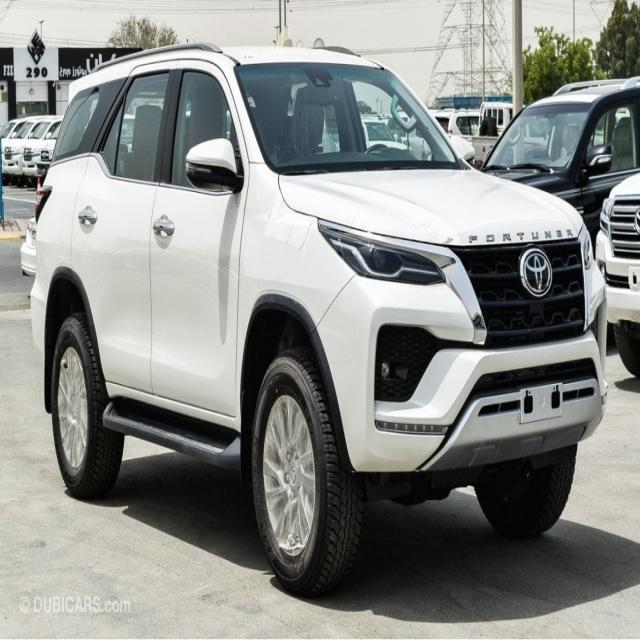light_vehicle: (29, 43, 608, 597)
